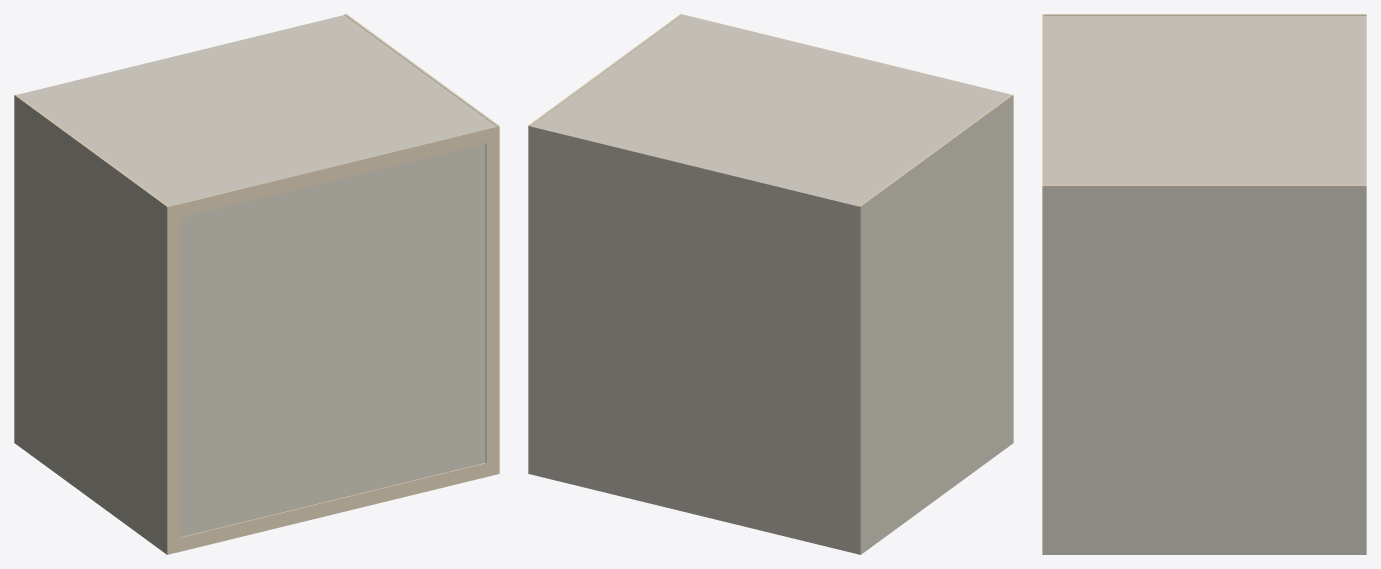
File: v2-real-locker-0.glb
3 views of the same model, side by side, from view 1: azimuth 30°, elevation 25°; view 2: azimuth 150°, elevation 25°; view 3: azimuth 270°, elevation 25° (orthographic). The views are drawn at different scales.
Size of the model in its own units: 450 by 450 by 358.
